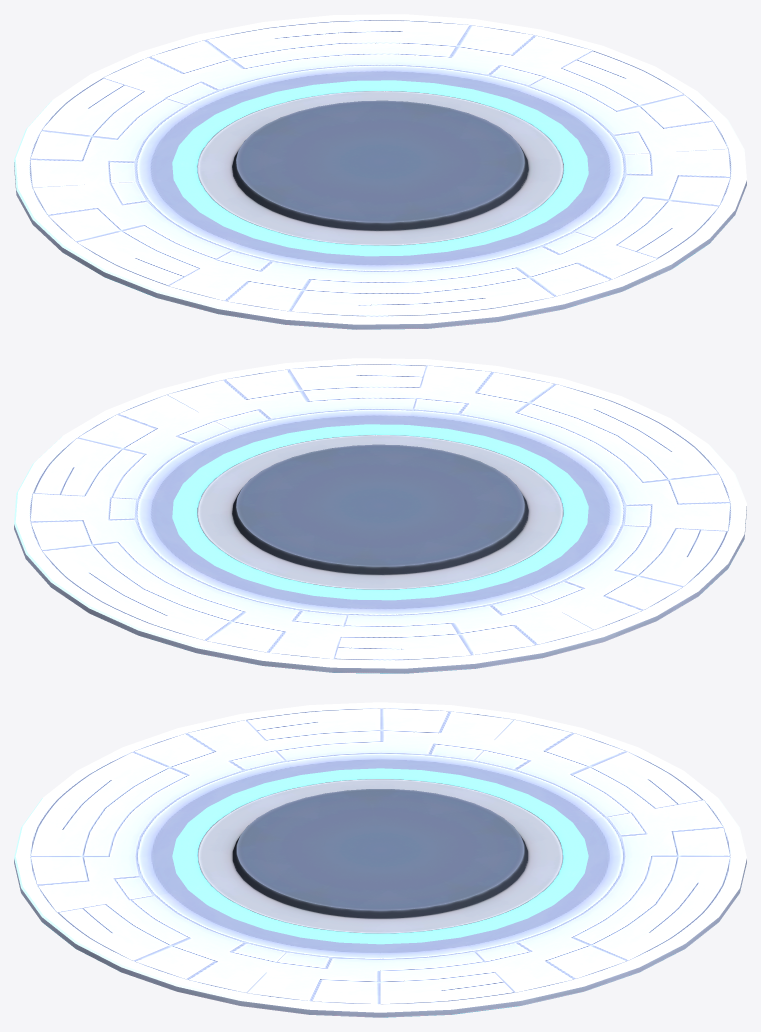
Rendered from obj_floor02.gltf.
3 renders of one model, top to bottom at view 1: azimuth 30°, elevation 25°; view 2: azimuth 150°, elevation 25°; view 3: azimuth 270°, elevation 25°, orthographic.
Visible parts, largest first — view 1: obj_floor02; view 2: obj_floor02; view 3: obj_floor02.
Part boxes in pixels (<box>): obj_floor02: <box>14,14,746,329</box>; obj_floor02: <box>14,358,746,673</box>; obj_floor02: <box>14,702,746,1017</box>.
Size of what is drawn, in the model's own units: 15.09 by 0.3 by 15.09.
Materials: 3 (2 with a texture image).
